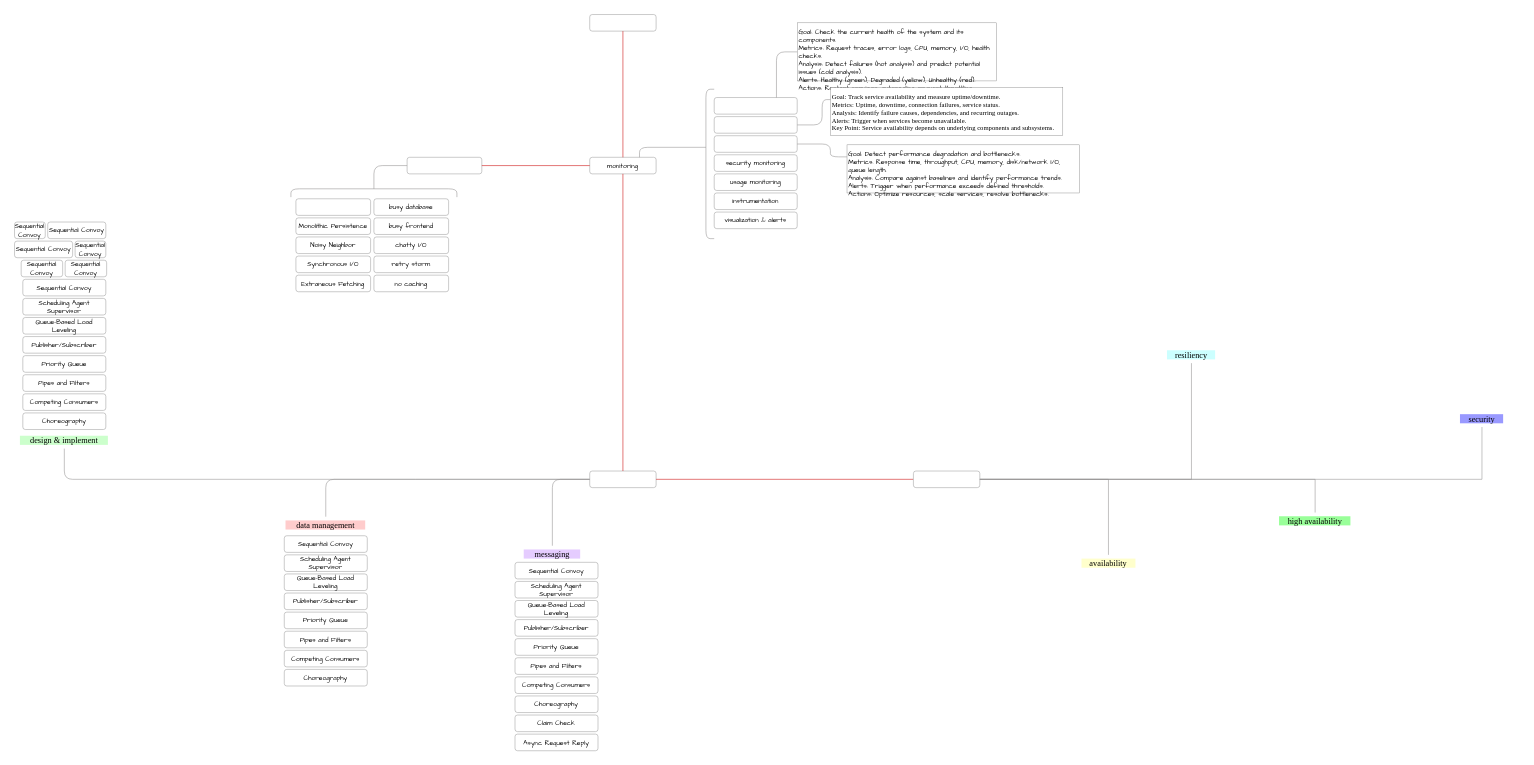
Image size: 1534x765. Some labels were removed from this diagram. Each missing label, with the centre of its shape:
"availability monitoring" goes at [755,124].
"cloud design pattern" goes at [622,478].
"health monitoring" goes at [755,105].
"idempotent operations" goes at [622,22].
"Improper Instantiation" goes at [332,206].
"performance antipatterns" goes at [444,165].
"performence monitoring" goes at [755,143].
"reliability pattern" goes at [946,478].
